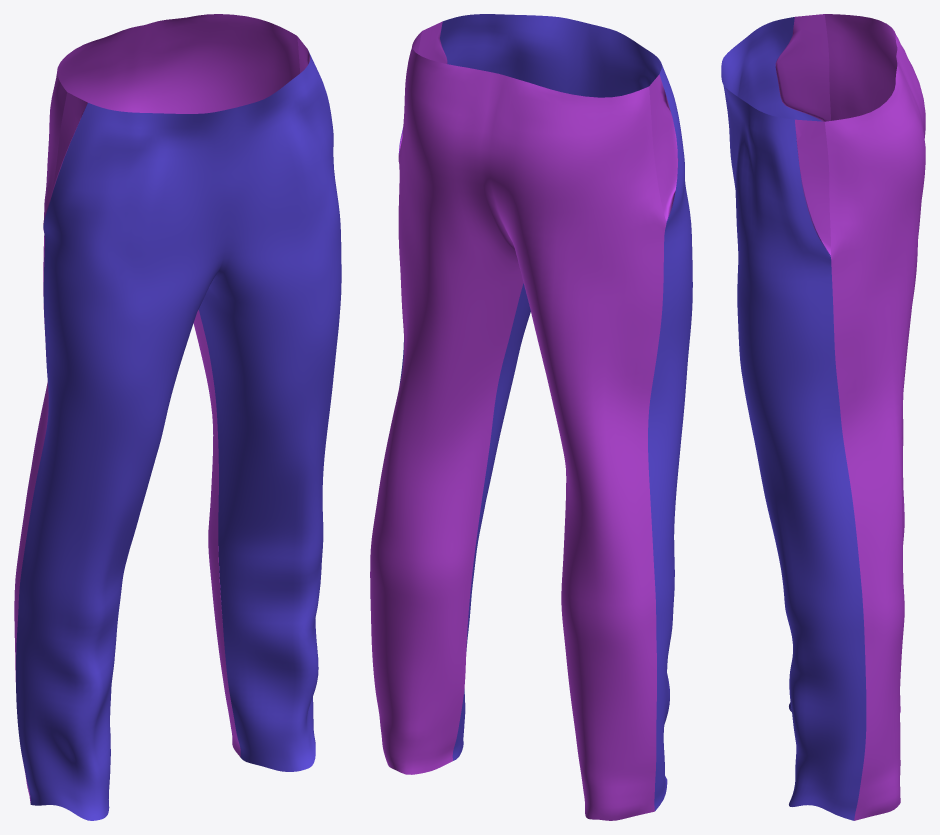
File: SM_CarlosSA_Trousers_Fixed_1.fbx
3 renders of one model, left to right at view 1: azimuth 30°, elevation 25°; view 2: azimuth 150°, elevation 25°; view 3: azimuth 270°, elevation 25°, orthographic. The views are drawn at different scales.
Visible parts, largest first — view 1: SM_CarlosSA_Trousers_Fixed_1; view 2: SM_CarlosSA_Trousers_Fixed_1; view 3: SM_CarlosSA_Trousers_Fixed_1.
Part boxes in pixels (<box>): SM_CarlosSA_Trousers_Fixed_1: <box>14,14,341,820</box>; SM_CarlosSA_Trousers_Fixed_1: <box>370,14,692,820</box>; SM_CarlosSA_Trousers_Fixed_1: <box>721,14,925,820</box>.
Bounding box in the file's own units: 38.28 × 92.66 × 24.43.
